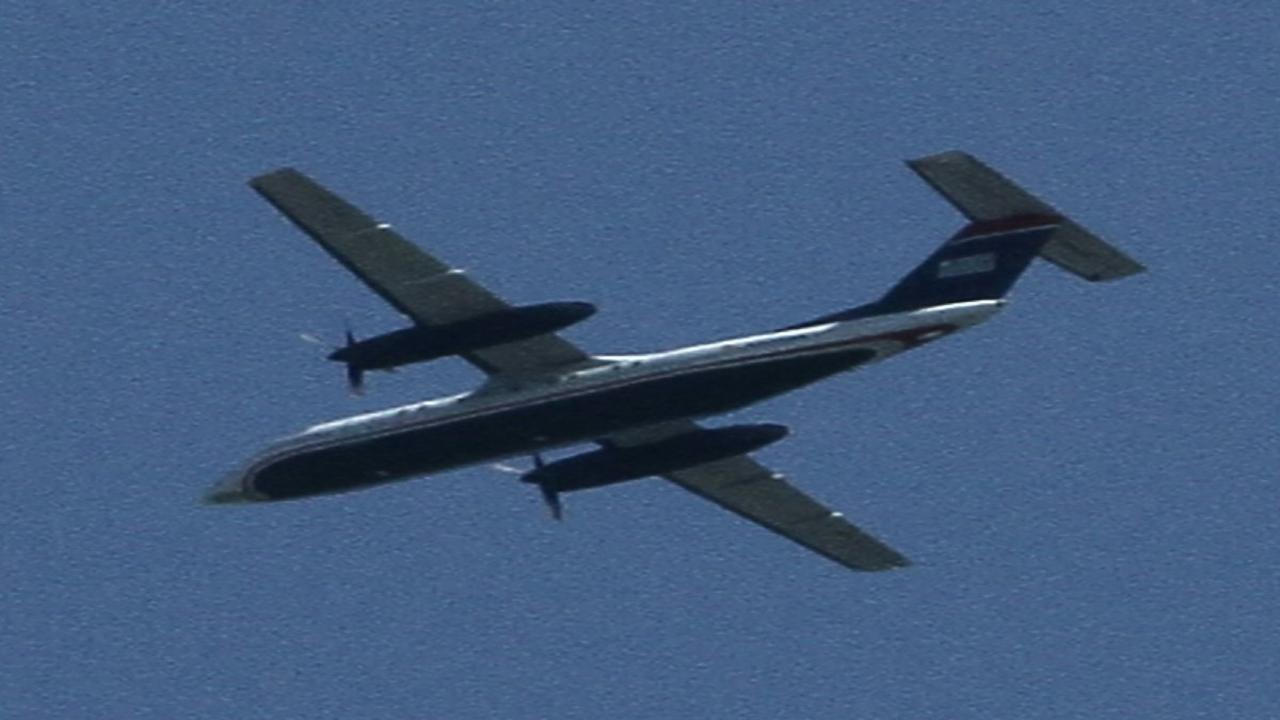Airplane: (165, 132, 1162, 584)
